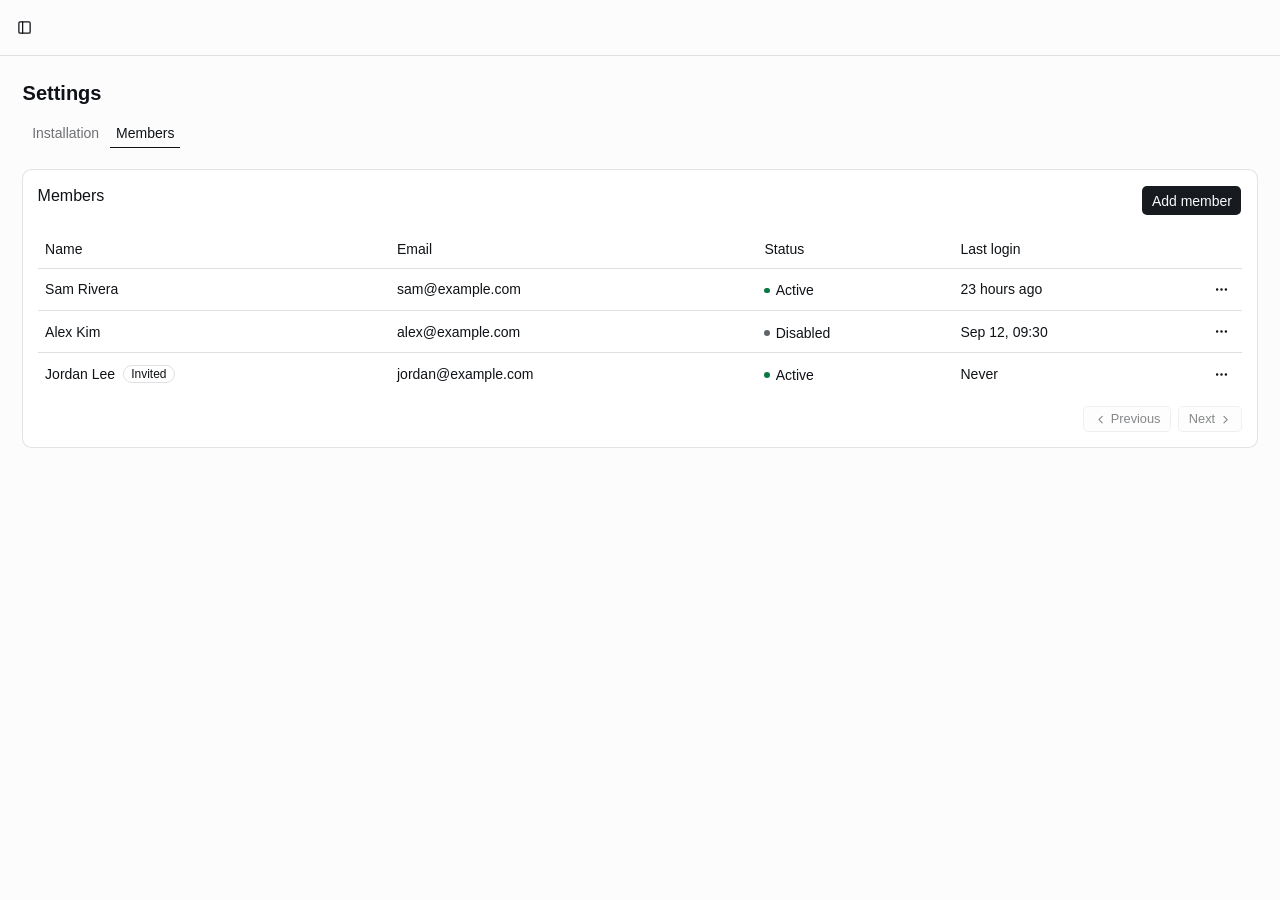
Test case: a reset link shows once with a copy button
Click the button named "Row actions" in the row of "Jordan Lee" at (1222, 374), box [1209,361,1235,387]
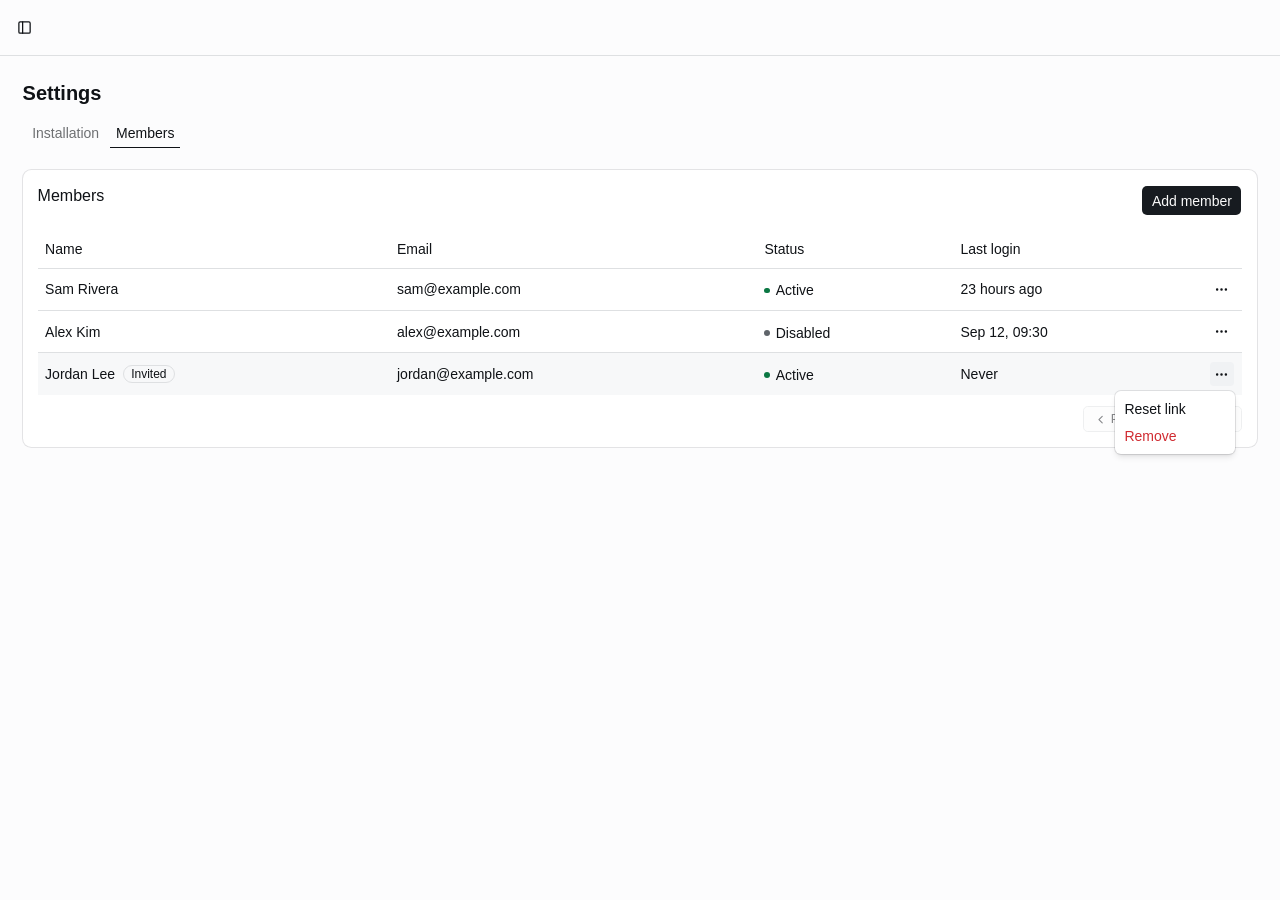
Click the menu item "Reset link" at (1155, 408), box [1124,400,1186,416]
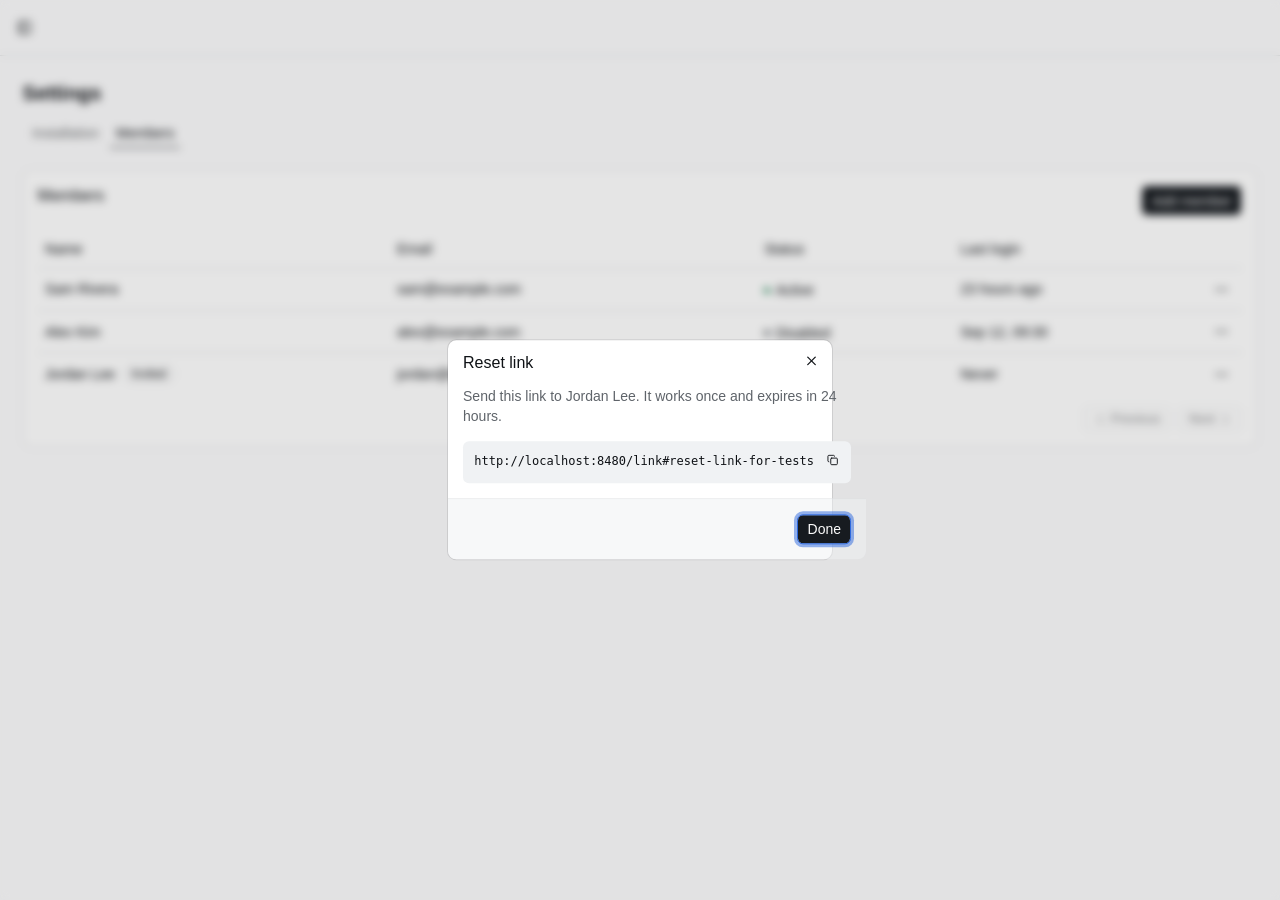
Expected: the text "http://localhost:8480/link#reset-link-for-tests" is shown, [474,455,814,469]
Expected: the text "Send this link to Jordan Lee. It works once and expires in 24 hours." is shown, [463,386,851,426]
Click the button "Done" at (824, 530), box [797,514,852,545]
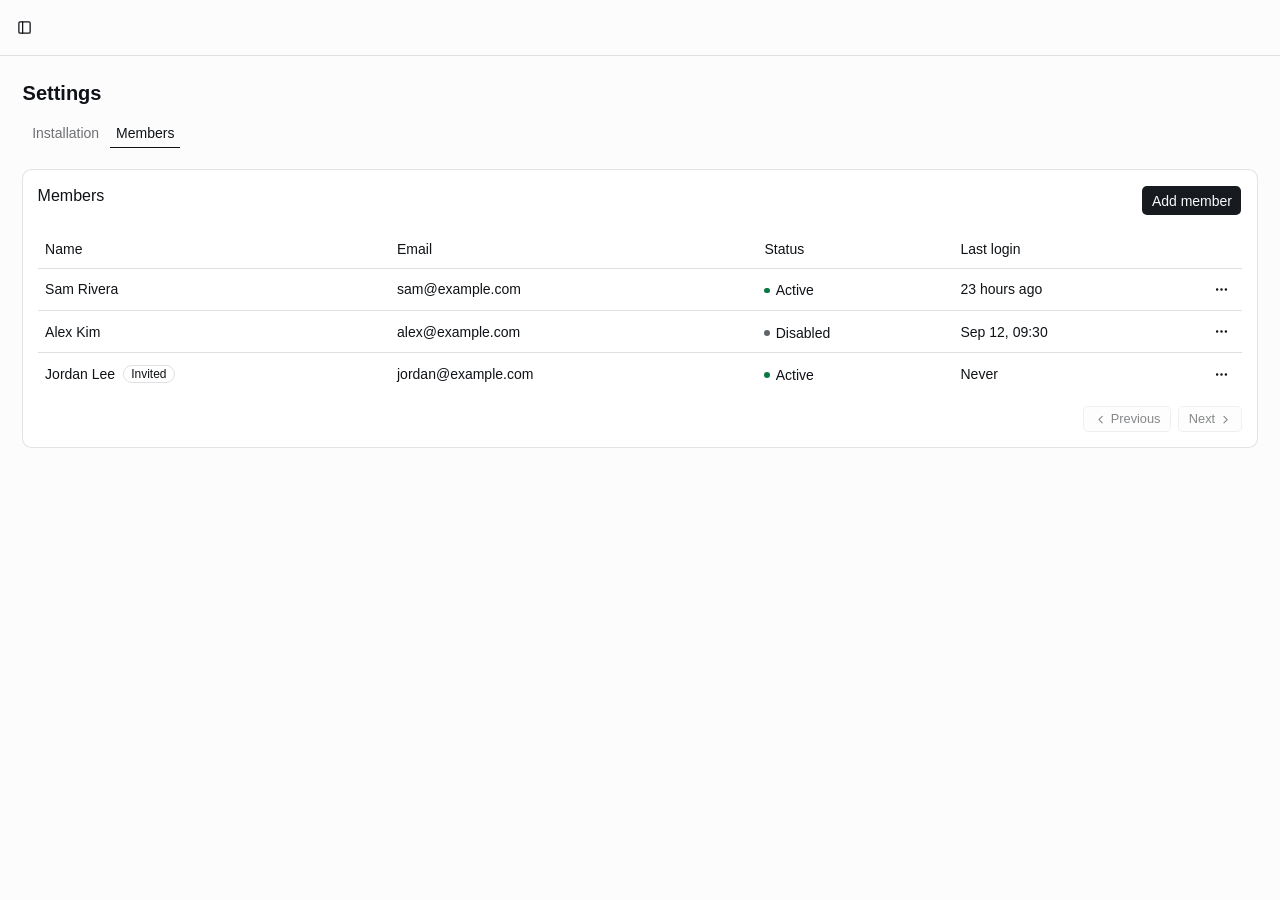
Expected: the dialog is gone
Expected: the text "http://localhost:8480/link#reset-link-for-tests" is gone
